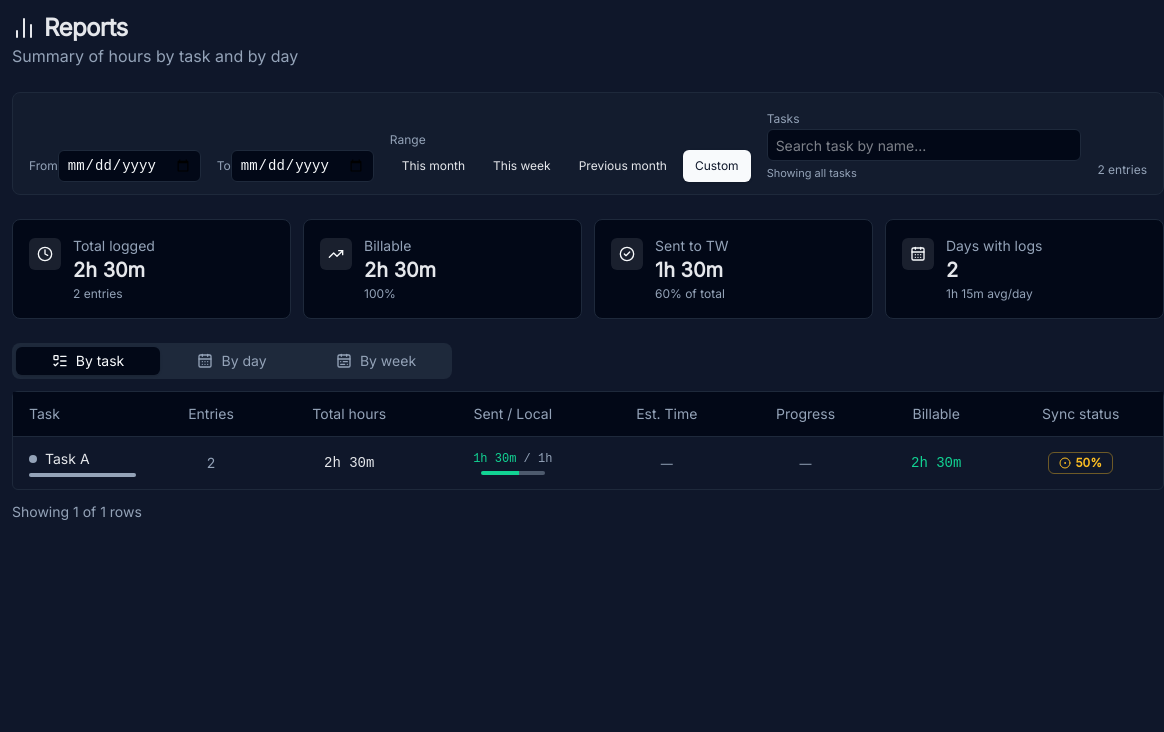
Test case: ReportsPage weekly view (UX-703) › renders the weekly total, the week range label and 7 day bars when selected
This screenshot has width=1164, height=732.
Step 1. Press the mouse on the tab "By week" → {"x": 376, "y": 360}, box [304,346,448,374]
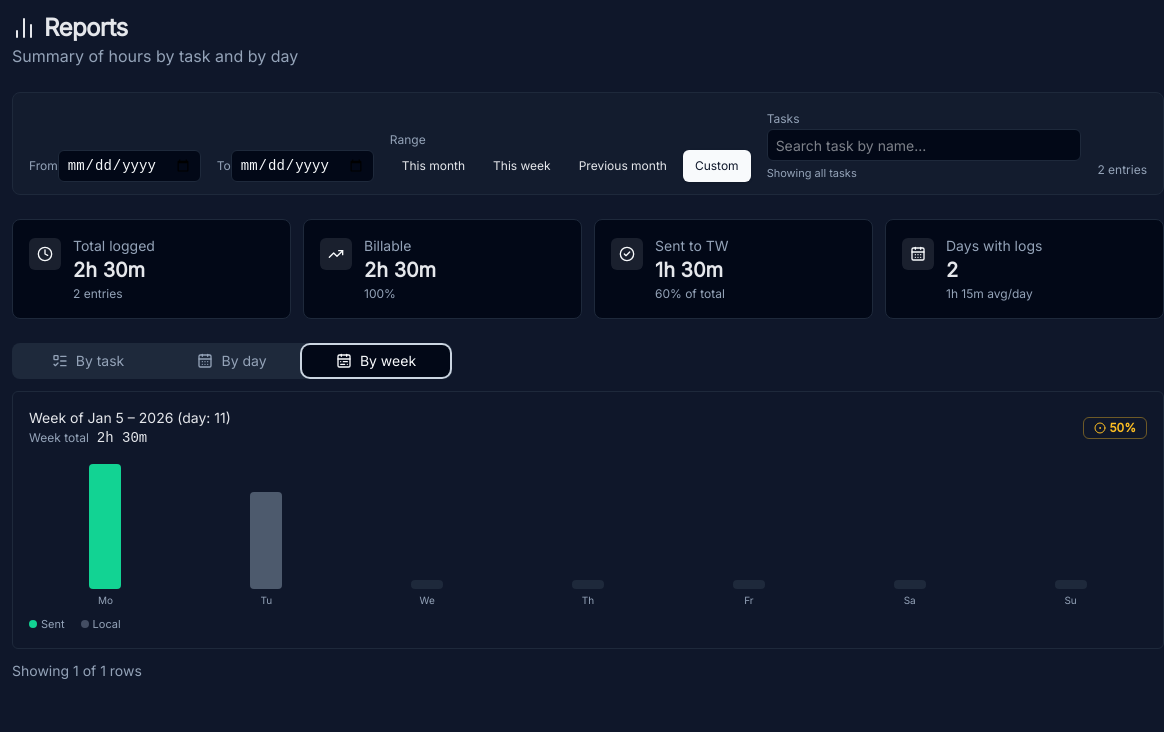
expect the text "2h 30m" next to "Week total" is shown: met, box [97,430,147,446]
expect the text "Week of Jan 5 – 2026 (day: 11)" is shown: met, box [29,408,231,428]
